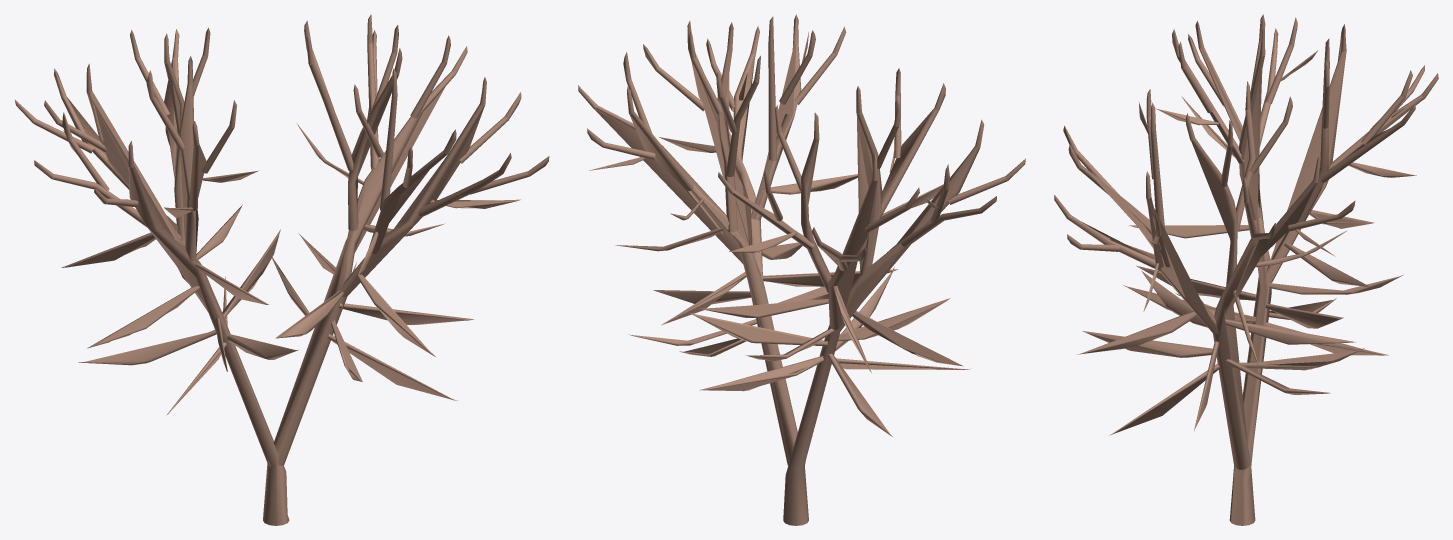
Rendered from Tree.fbx.
3 renders of one model, left to right at view 1: azimuth 30°, elevation 25°; view 2: azimuth 150°, elevation 25°; view 3: azimuth 270°, elevation 25°, orthographic. The views are drawn at different scales.
Parts seen in each view (by area): view 1: tree; view 2: tree; view 3: tree.
Part boxes in pixels (<box>): tree: <box>14,14,549,525</box>; tree: <box>578,14,1025,525</box>; tree: <box>1054,14,1438,525</box>.
Size of the model in its own units: 74.51 by 78.22 by 59.63.
